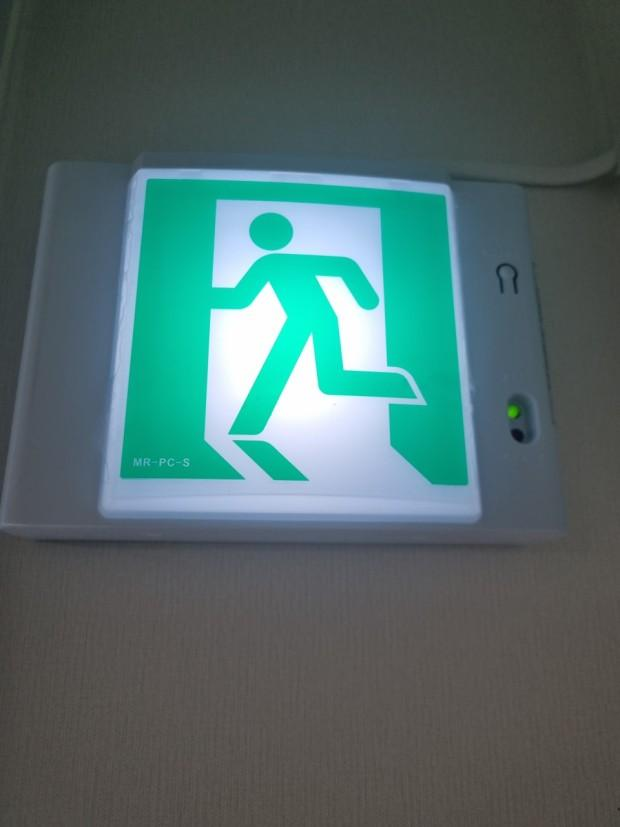emergency_exit: (4, 157, 567, 546), (97, 163, 486, 527)
